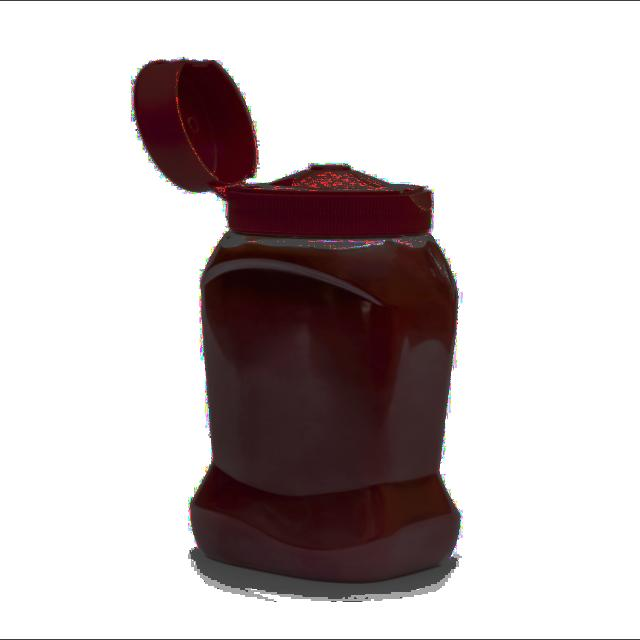ketchup: (191, 180, 467, 588)
